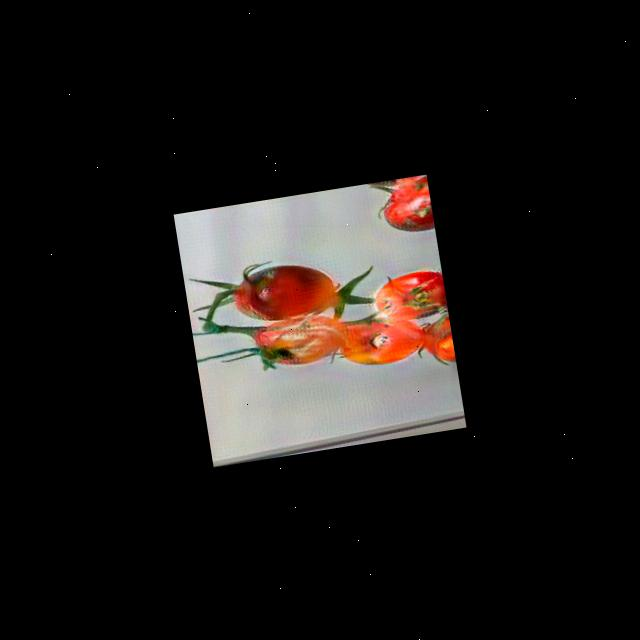tomato: (230, 251, 340, 328), (252, 306, 354, 372), (338, 310, 426, 368), (380, 180, 436, 238)
